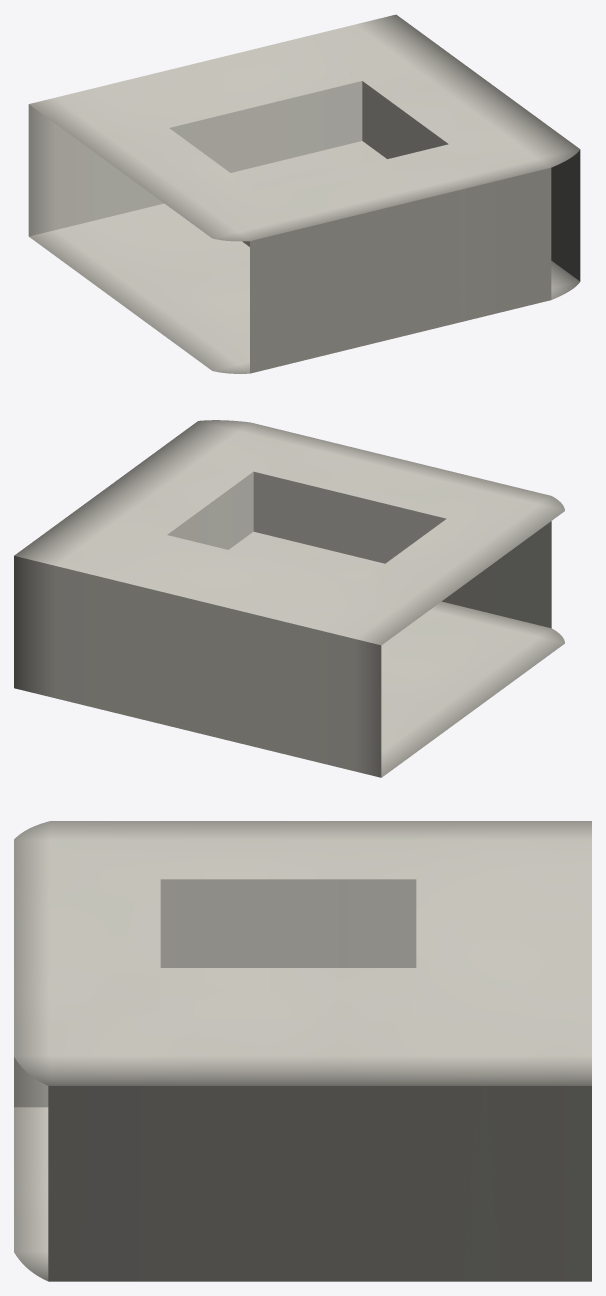
File: SM_EC_Telephone_Base_1.fbx
3 views of the same model, one above another, from view 1: azimuth 30°, elevation 25°; view 2: azimuth 150°, elevation 25°; view 3: azimuth 270°, elevation 25° (orthographic). The views are drawn at different scales.
Parts seen in each view (by area): view 1: SM_EC_Telephone_Base_1; view 2: SM_EC_Telephone_Base_1; view 3: SM_EC_Telephone_Base_1.
Boxes of the visible parts, left/top/right/bottom form: SM_EC_Telephone_Base_1: left=28, top=14, right=580, bottom=373; SM_EC_Telephone_Base_1: left=14, top=420, right=564, bottom=777; SM_EC_Telephone_Base_1: left=14, top=821, right=591, bottom=1281.
Size of the model in its own units: 0.2795 by 0.2479 by 0.0926.
